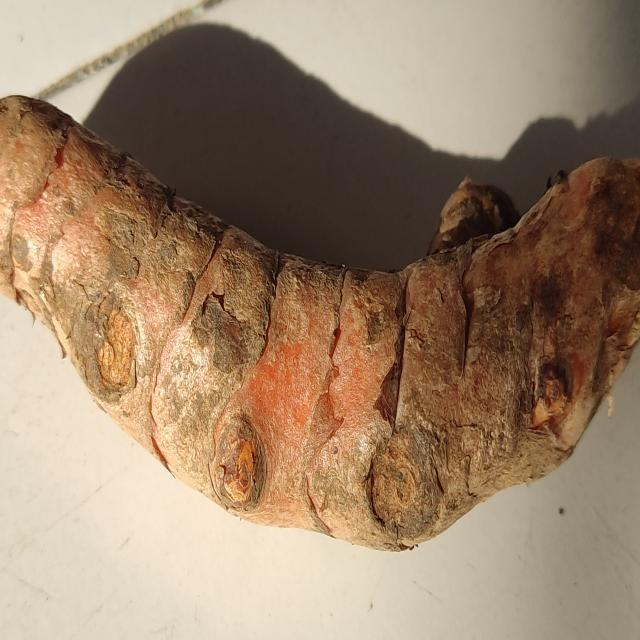ginger: (3, 87, 640, 528)
